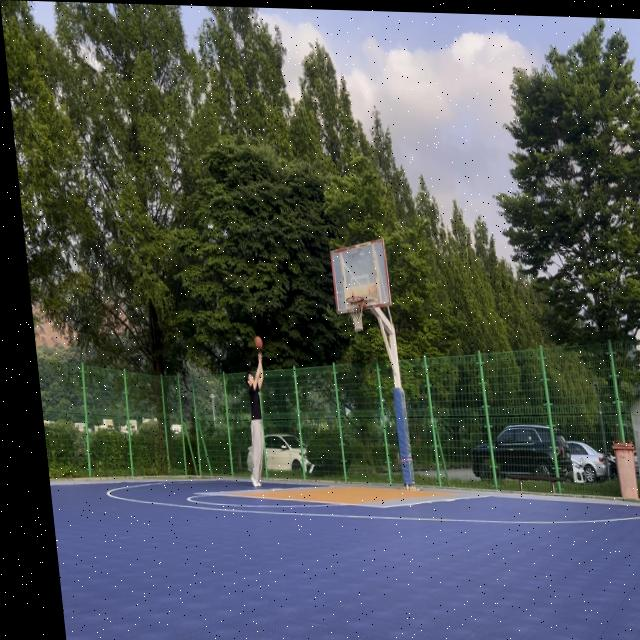basketball: (252, 335, 264, 352)
hoop: (346, 296, 368, 334)
